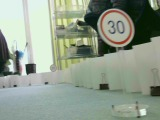speed_30: (97, 8, 135, 47)
